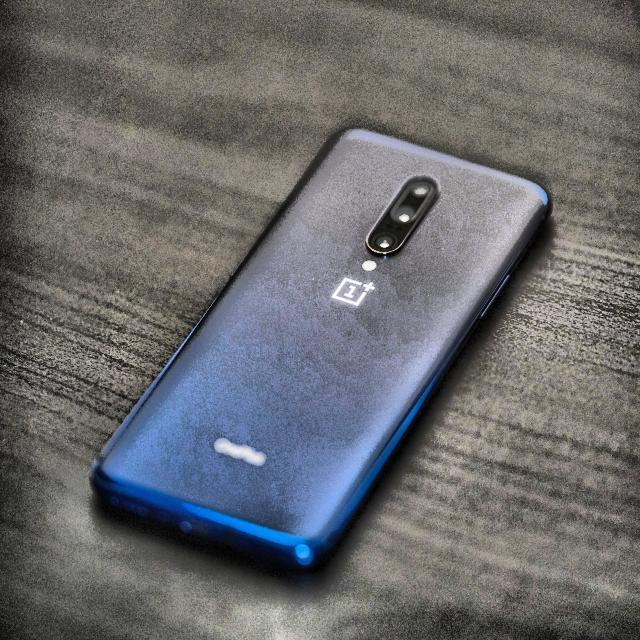Phone: (88, 121, 558, 596)
